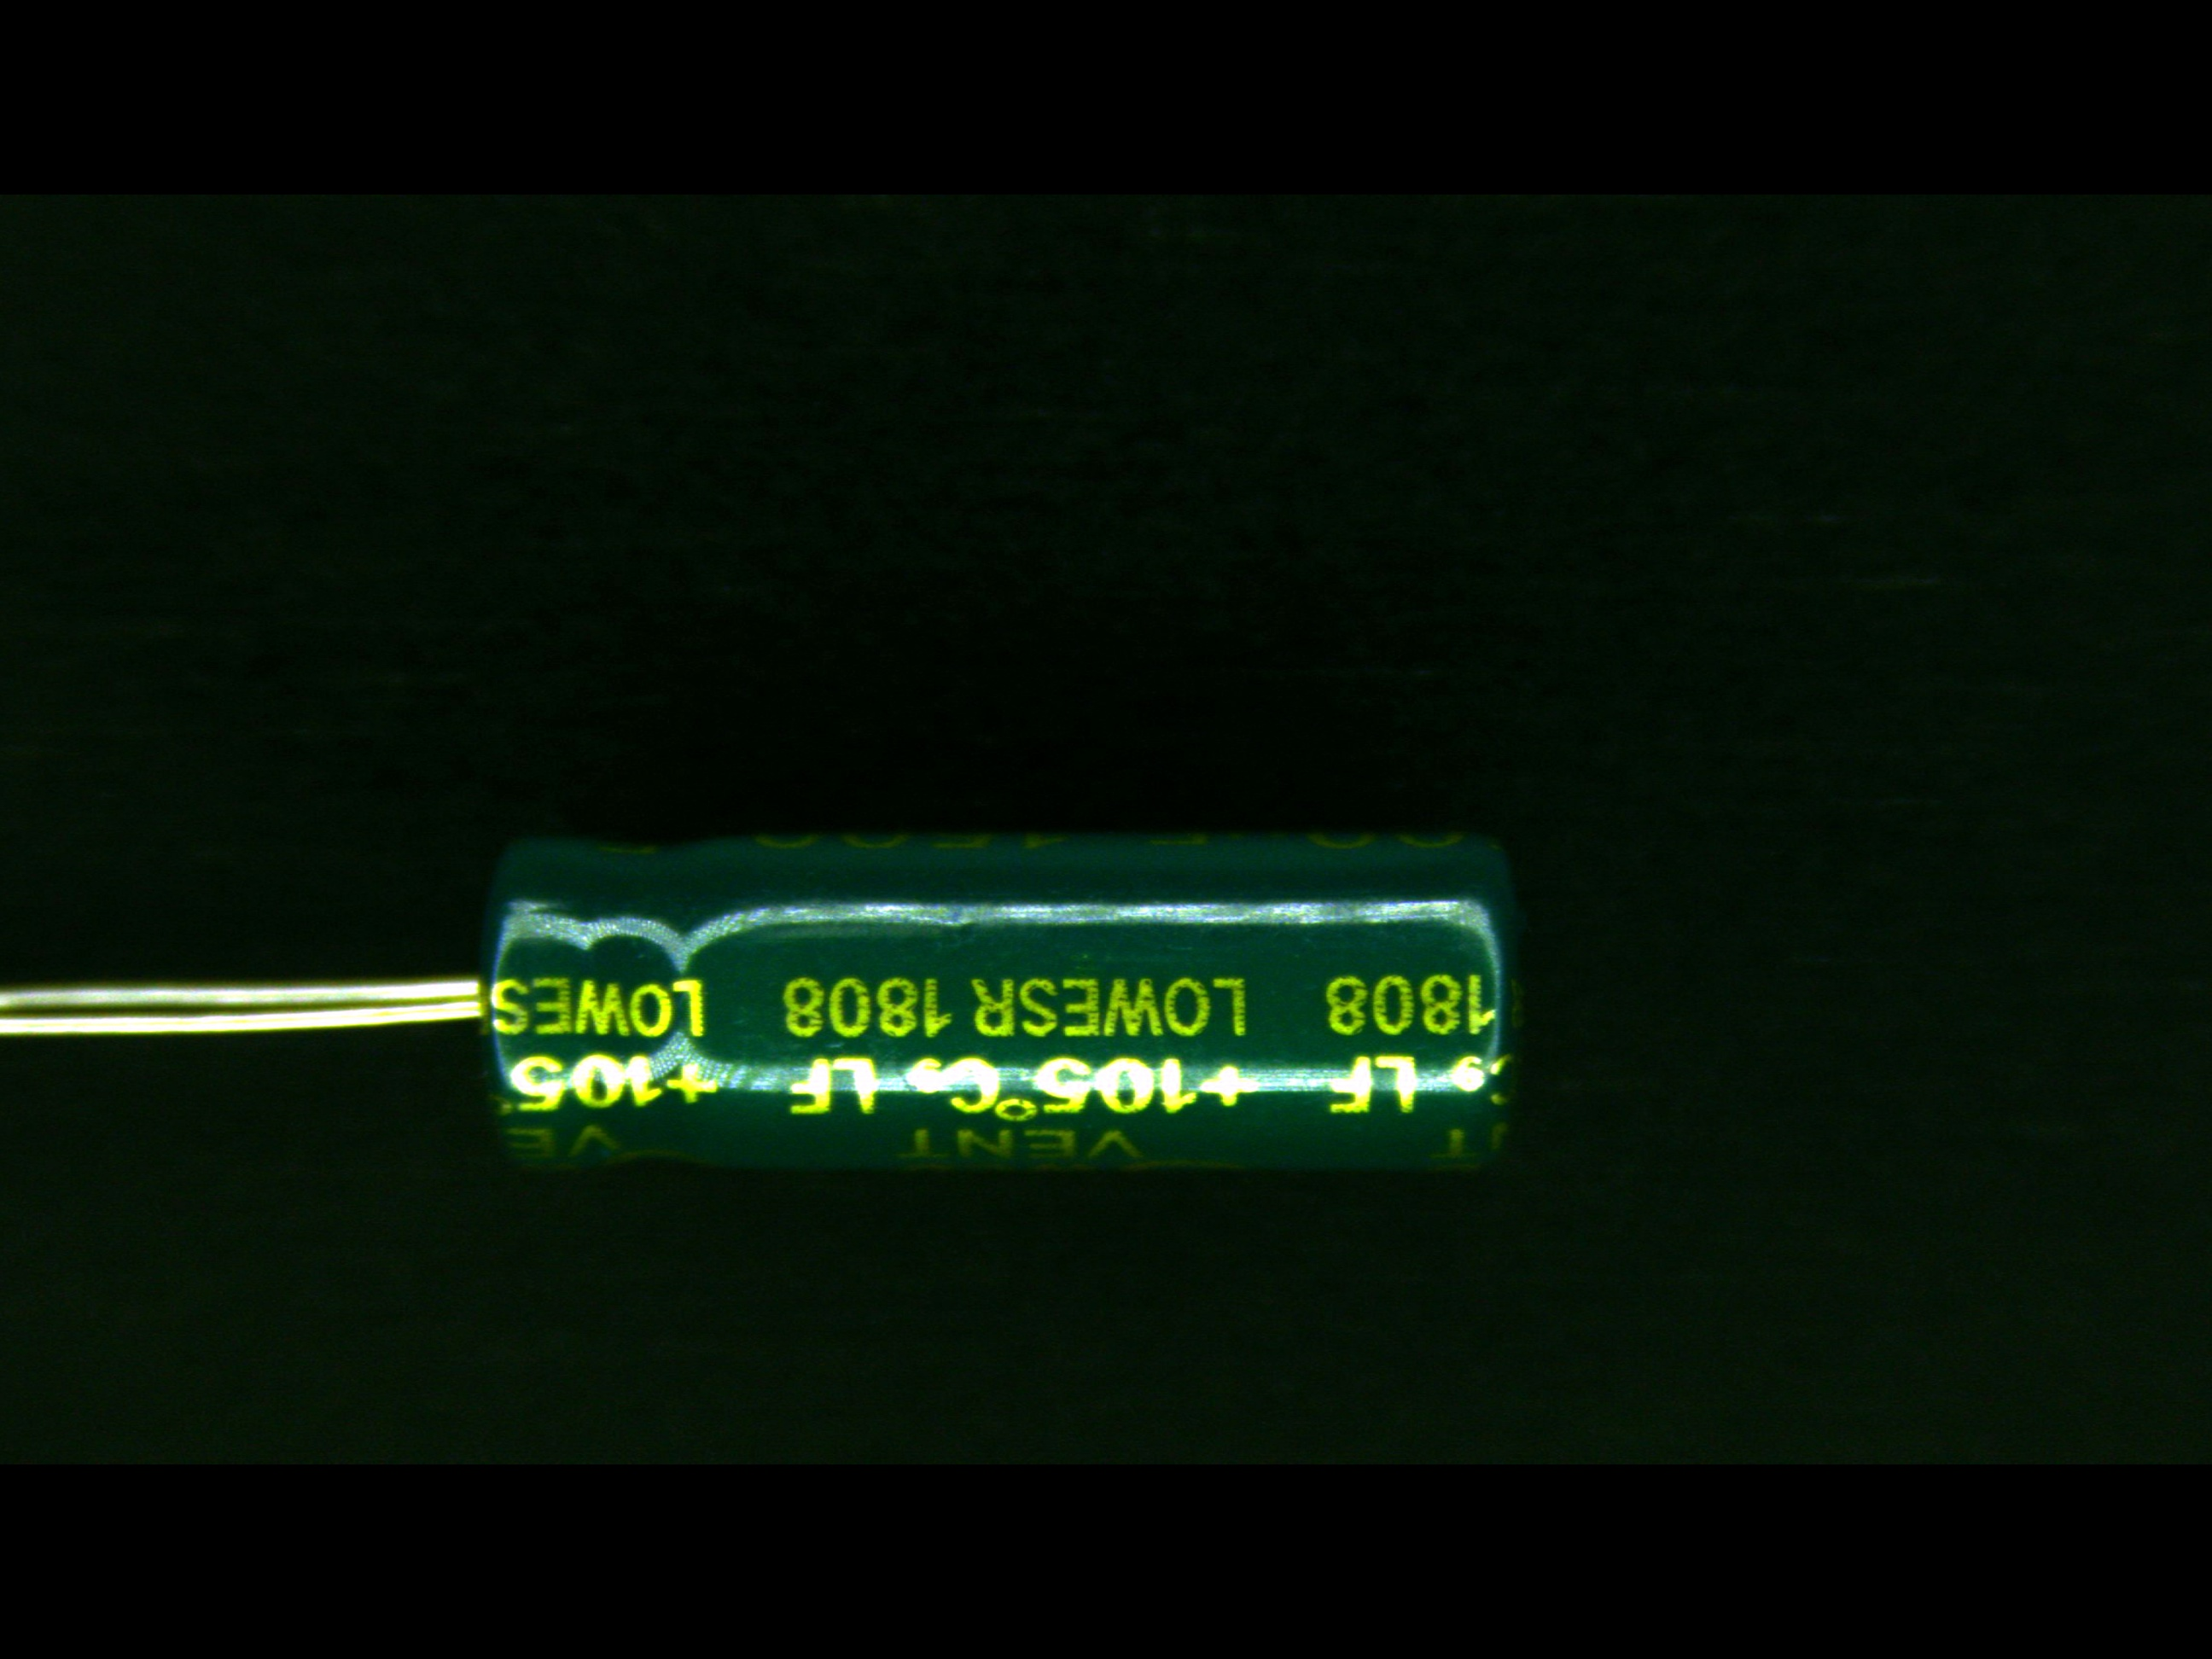c1: (368, 826, 1529, 1159)
